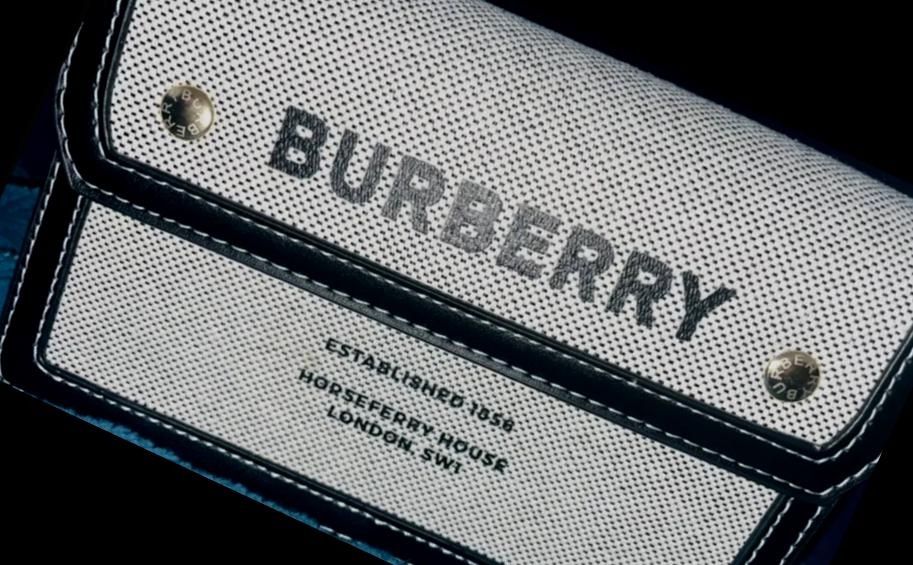BURBERRY: (261, 86, 734, 366)
